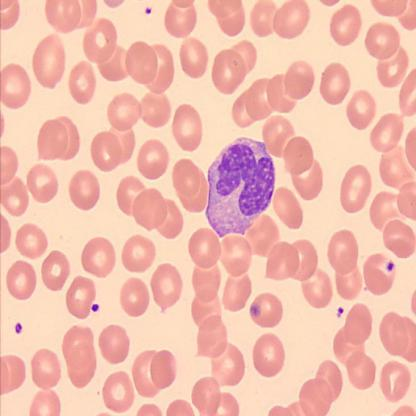Monocyte: (204, 134, 278, 241)
